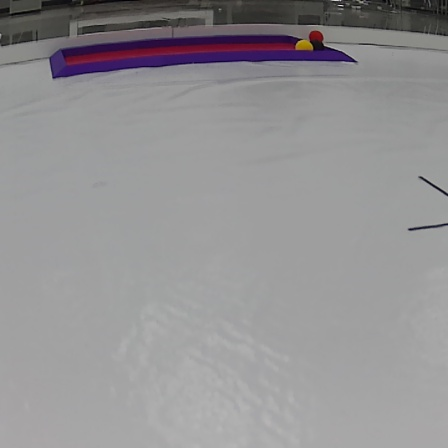black: (311, 39, 326, 50)
red: (306, 28, 323, 38)
red_aim: (50, 34, 364, 80)
yellow: (295, 39, 314, 51)
